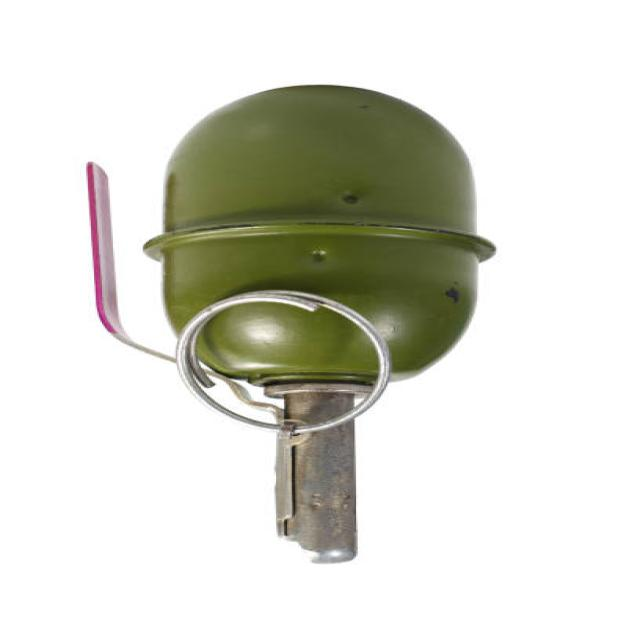grenade: (69, 79, 506, 572)
